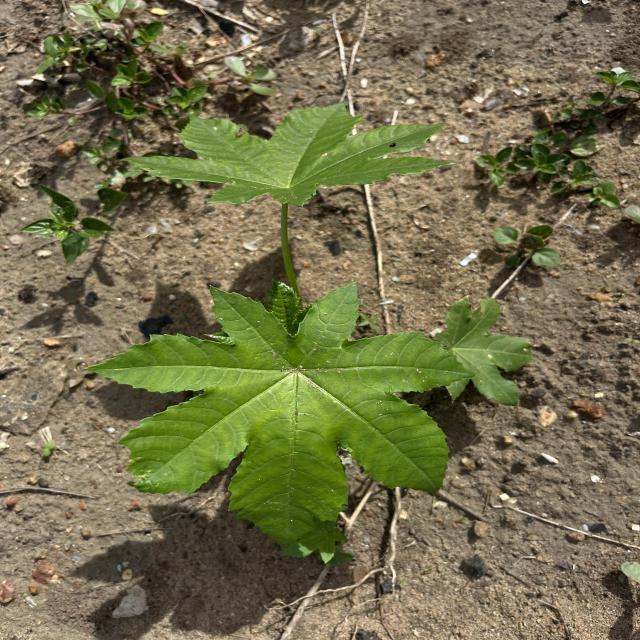Ricinus communis linn: (80, 276, 480, 553)
